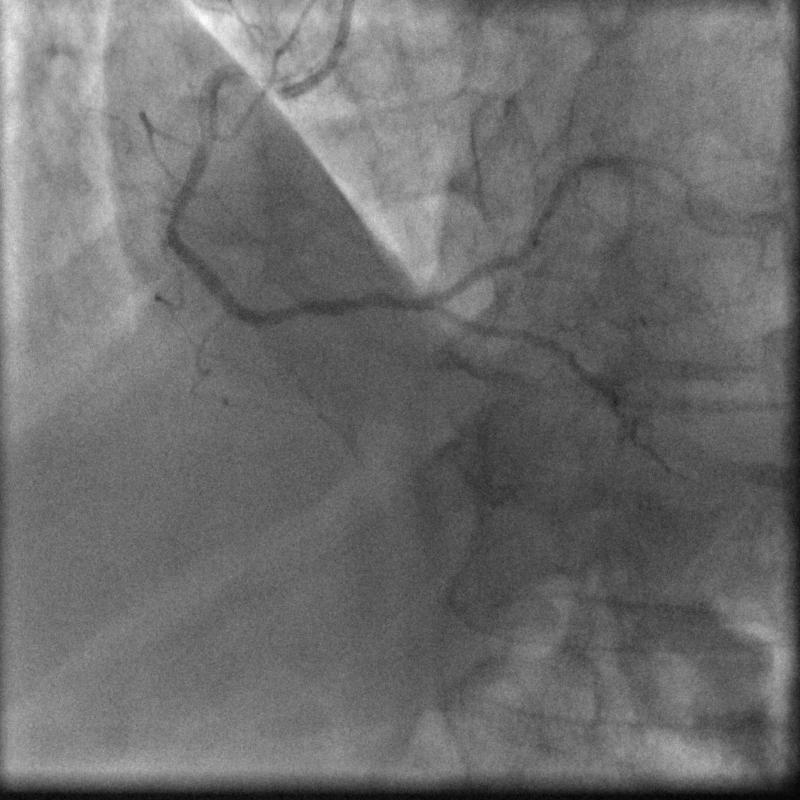Stenosis: (163, 204, 185, 226)
